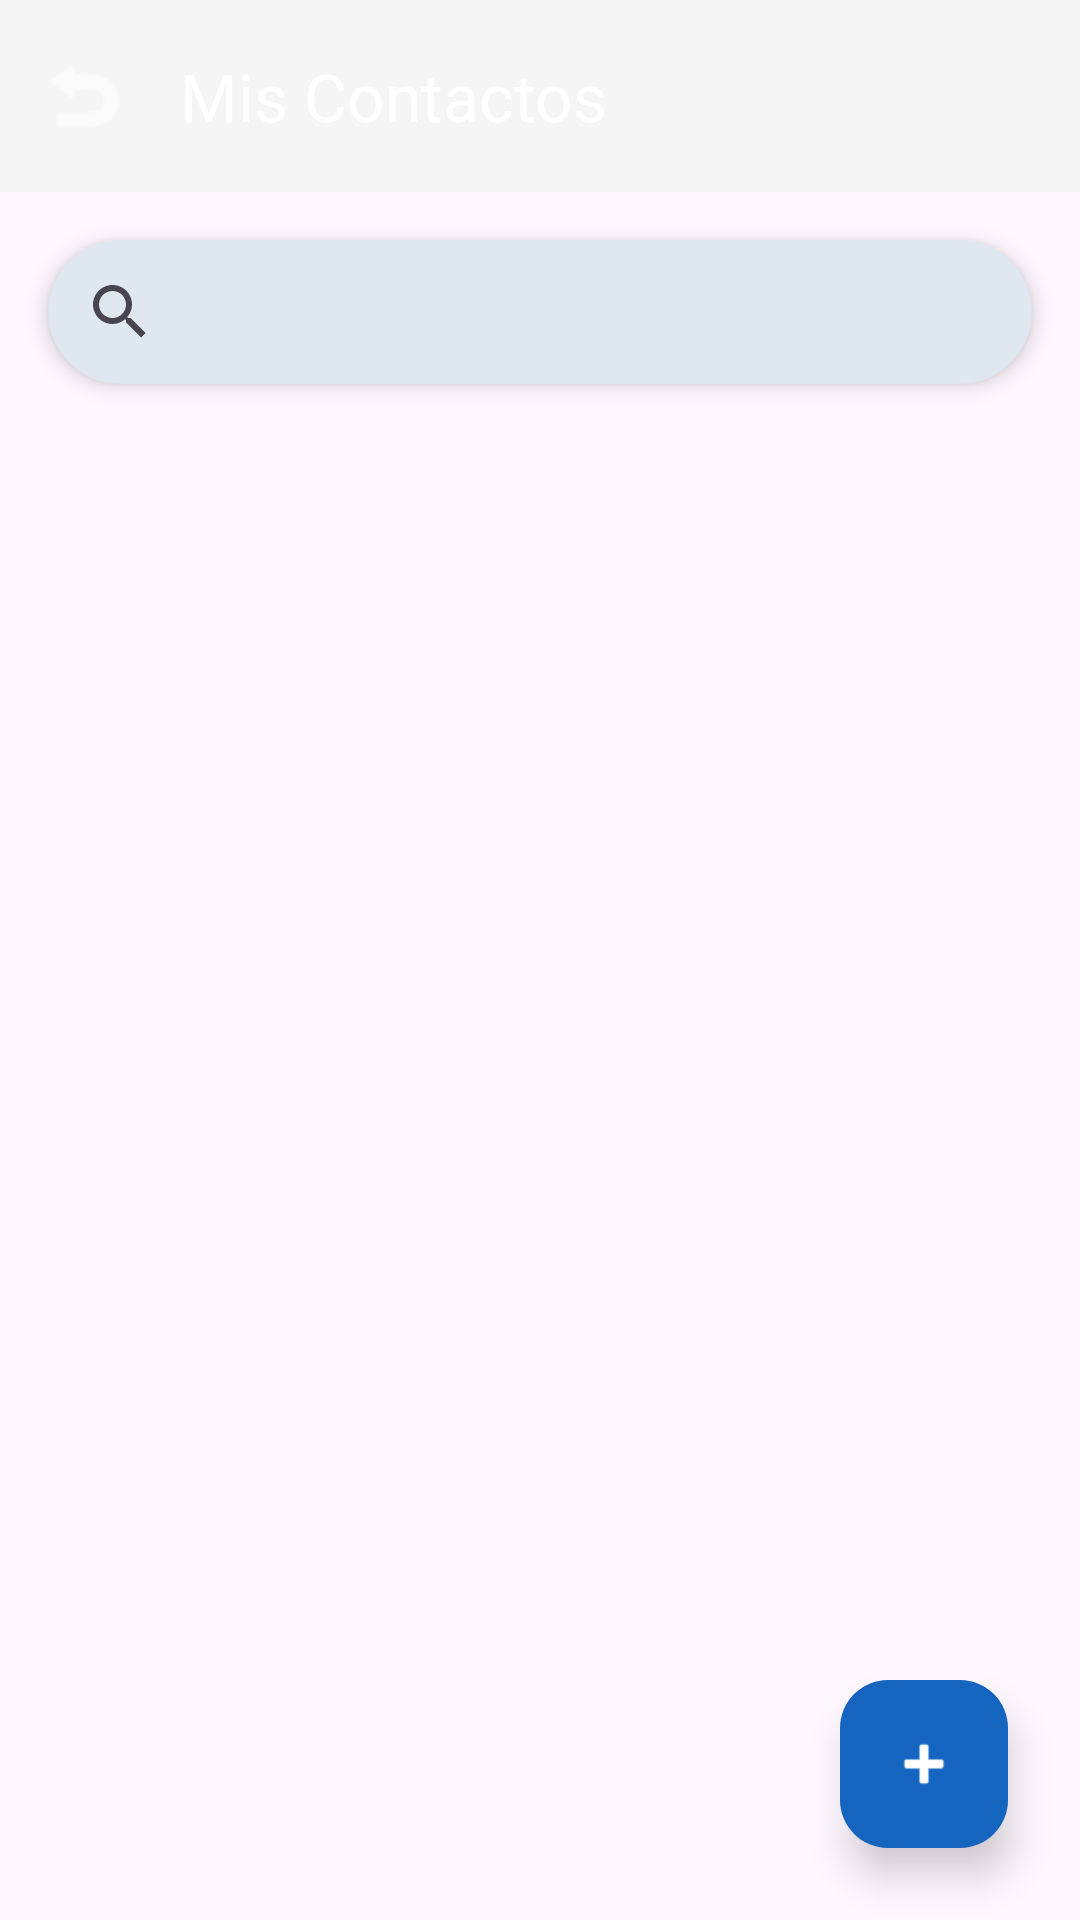

Screen size 1080*1920. Icon name, then its box in pixels as (x1, y1, x2, y2):
Agregar contacto: (840, 1680, 1008, 1848)
